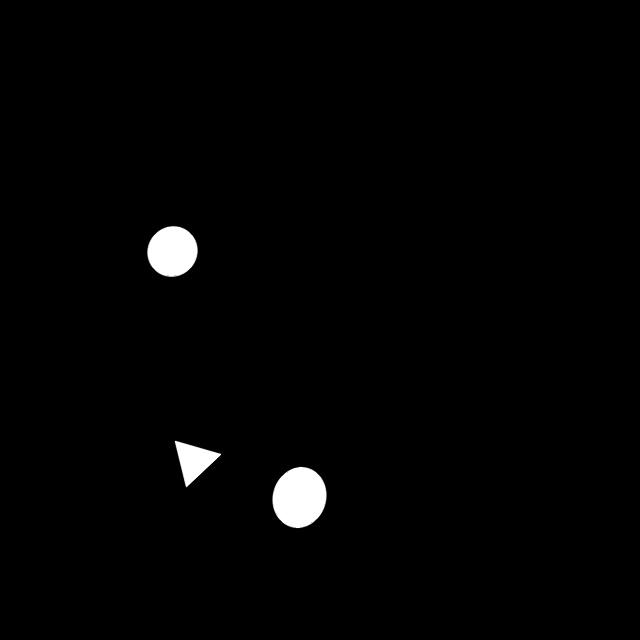Circle: (264, 456, 336, 542), (136, 218, 206, 286)
Triangle: (162, 430, 230, 505)
